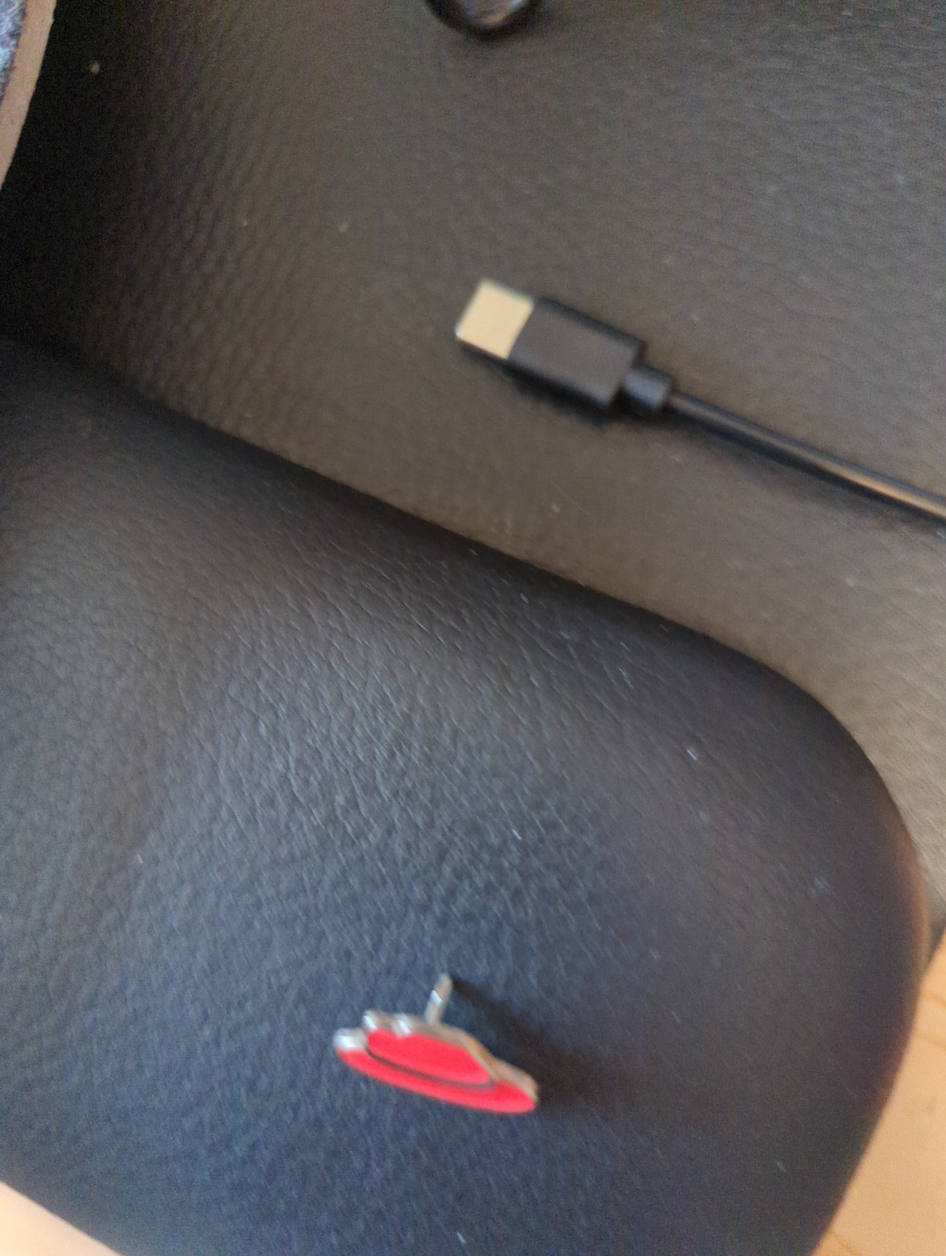Red-Hat: (274, 864, 630, 1196)
